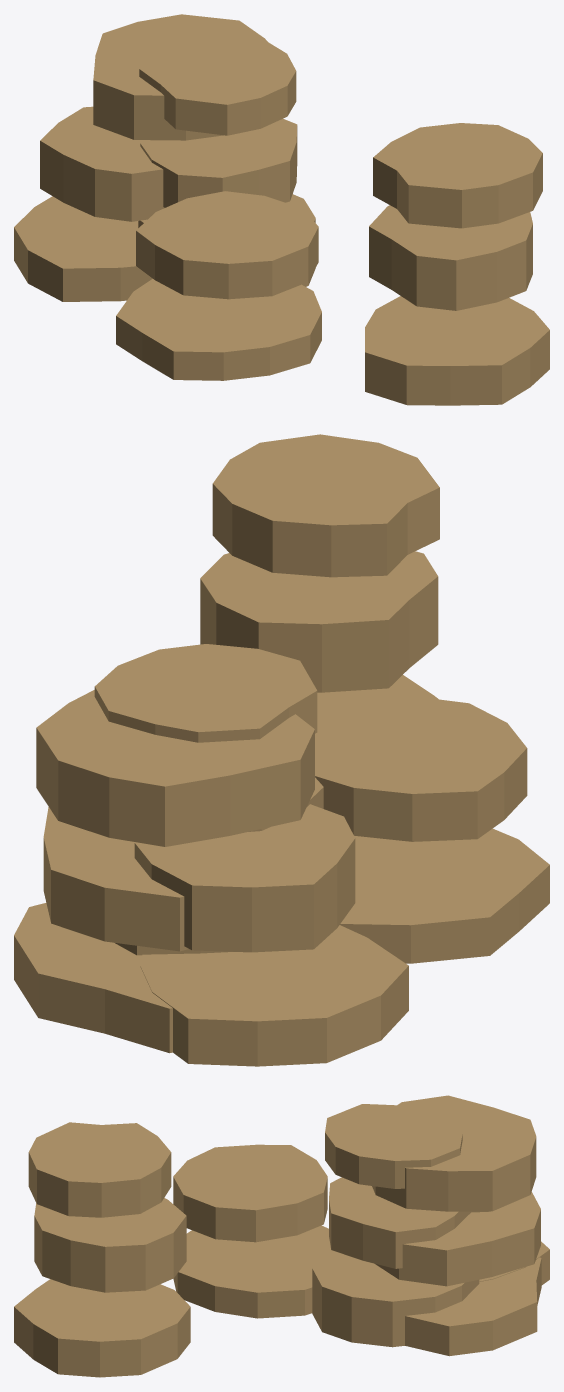
The model's file is MesasE_Rock.fbx.
3 renders of one model, top to bottom at view 1: azimuth 30°, elevation 25°; view 2: azimuth 150°, elevation 25°; view 3: azimuth 270°, elevation 25°, orthographic. The views are drawn at different scales.
Parts seen in each view (by area): view 1: MesaE0_0.001; view 2: MesaE0_0.001; view 3: MesaE0_0.001.
Part boxes in pixels (x1,y1,x2,y2): MesaE0_0.001: [14, 14, 549, 405]; MesaE0_0.001: [14, 434, 549, 1066]; MesaE0_0.001: [14, 1095, 549, 1377].
Bounding box in the file's own units: 10953 × 7158 × 18071.
